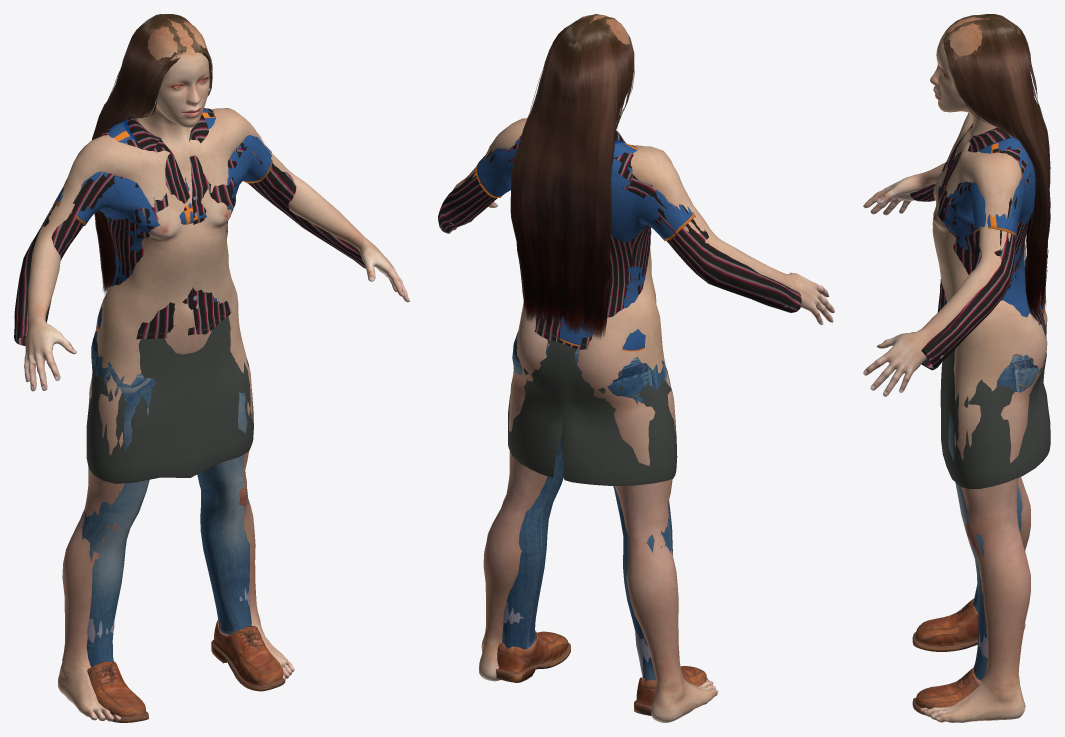
Rendered from avatar.glb.
3 views of the same model, side by side, from view 1: azimuth 30°, elevation 25°; view 2: azimuth 150°, elevation 25°; view 3: azimuth 270°, elevation 25° (orthographic).
Visible parts, largest first — view 1: Avatar, Garment_Elegant, Garment_Casual, Face_Hair, Garment_Shoes; view 2: Avatar, Face_Hair, Garment_Elegant, Garment_Casual, Garment_Shoes; view 3: Avatar, Garment_Elegant, Face_Hair, Garment_Casual, Garment_Shoes.
Boxes of the visible parts, x1,y1,x2,y2 form: Avatar: (24, 18, 409, 721); Garment_Elegant: (14, 108, 365, 483); Garment_Casual: (53, 109, 272, 667); Face_Hair: (92, 14, 212, 293); Garment_Shoes: (87, 585, 285, 722); Avatar: (447, 14, 834, 722); Face_Hair: (510, 14, 634, 339); Garment_Elegant: (438, 130, 801, 485); Garment_Casual: (475, 139, 695, 680); Garment_Shoes: (496, 601, 707, 715); Avatar: (863, 15, 1047, 722); Garment_Elegant: (910, 123, 1050, 488); Face_Hair: (943, 14, 1050, 319); Garment_Casual: (937, 136, 1044, 680); Garment_Shoes: (912, 598, 987, 715).
Bounding box in the file's own units: 0.9925 × 1.67 × 0.4307.
8 materials, 8 textured.
